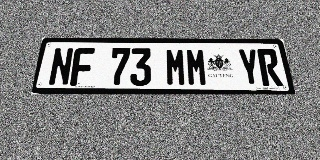3: (130, 48, 151, 86)
7: (108, 48, 131, 86)
F: (70, 48, 95, 86)
M: (165, 48, 187, 86), (186, 48, 208, 86)
N: (48, 48, 74, 86)
R: (257, 49, 283, 86)
Y: (237, 49, 262, 86)
